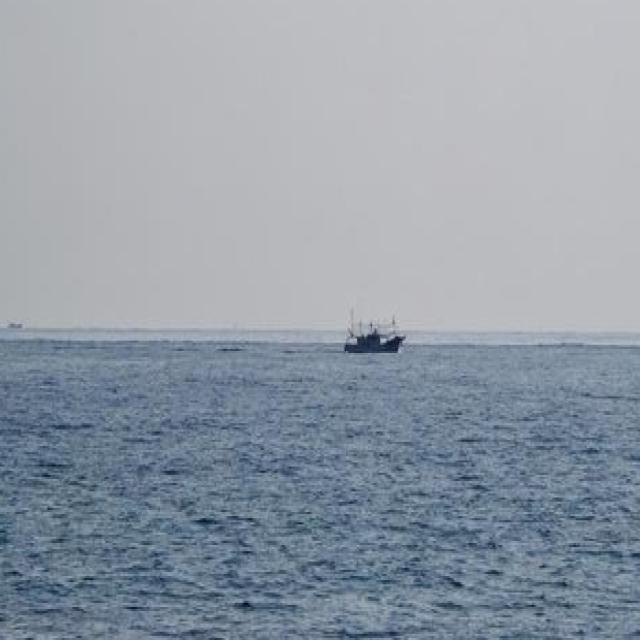fishing boat: (343, 307, 408, 358)
